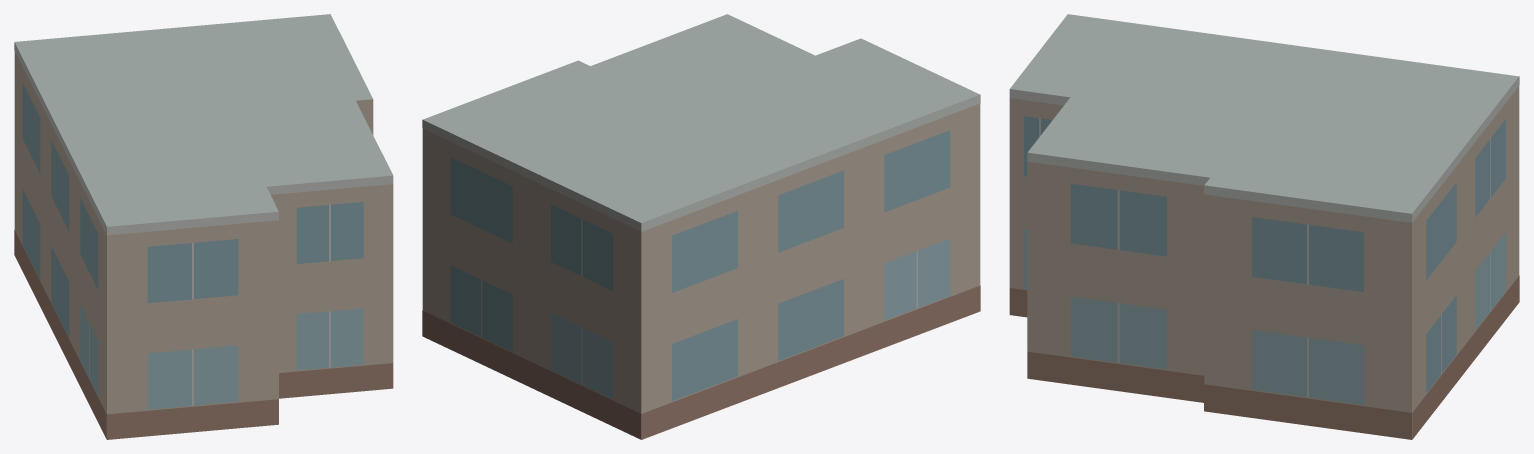
Rendered from survey-upis-32671500.glb.
3 views of the same model, side by side, from view 1: azimuth 30°, elevation 25°; view 2: azimuth 150°, elevation 25°; view 3: azimuth 270°, elevation 25° (orthographic). The views are drawn at different scales.
Parts seen in each view (by area): view 1: survey-upis-32671500.tmp; view 2: survey-upis-32671500.tmp; view 3: survey-upis-32671500.tmp.
Part boxes in pixels (x1=…): survey-upis-32671500.tmp: x1=14, y1=14, x2=393, y2=439; survey-upis-32671500.tmp: x1=422, y1=14, x2=980, y2=439; survey-upis-32671500.tmp: x1=1009, y1=14, x2=1519, y2=439.
Size of the model in its own units: 11.58 by 6.1 by 12.48.
